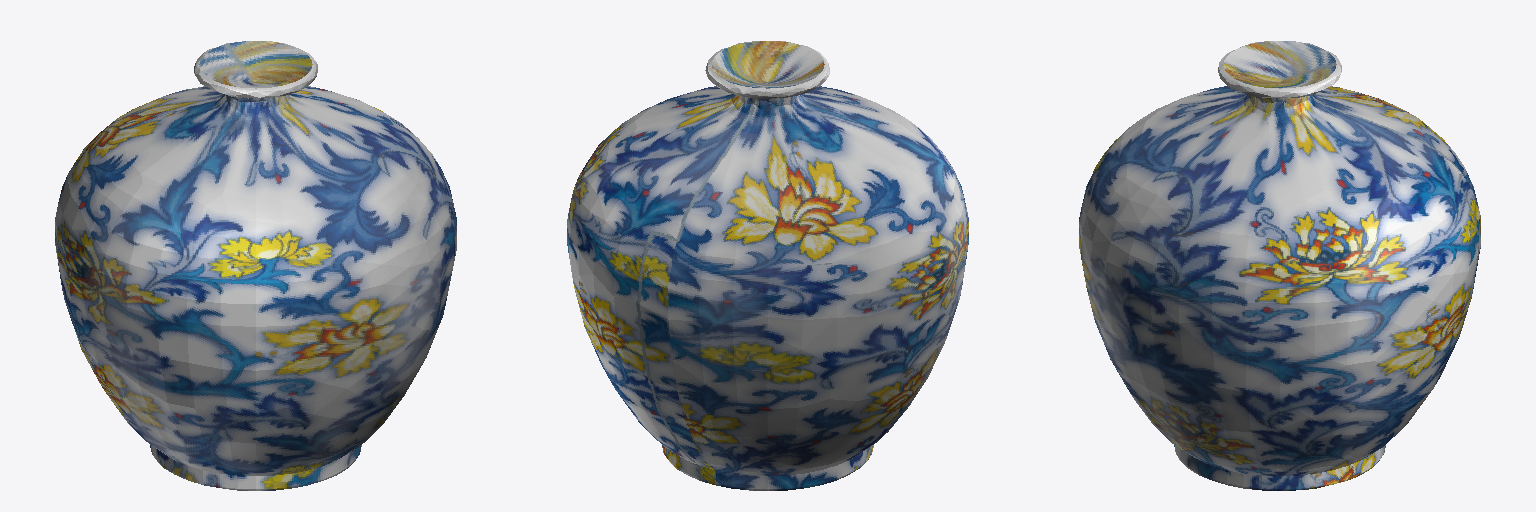
3 renders of one model, left to right at view 1: azimuth 30°, elevation 25°; view 2: azimuth 150°, elevation 25°; view 3: azimuth 270°, elevation 25°, orthographic.
Visible parts, largest first — view 1: solid_002, solid_001; view 2: solid_002, solid_001; view 3: solid_002, solid_001.
Part boxes in pixels (x1,y1,x2,y2): solid_002: (55,41,456,490); solid_001: (194,41,317,98); solid_002: (567,41,968,490); solid_001: (705,41,829,98); solid_002: (1079,41,1480,490); solid_001: (1218,41,1341,97).
Bounding box in the file's own units: 0.2083 × 0.2187 × 0.2083.
Materials: 1 (1 with a texture image).